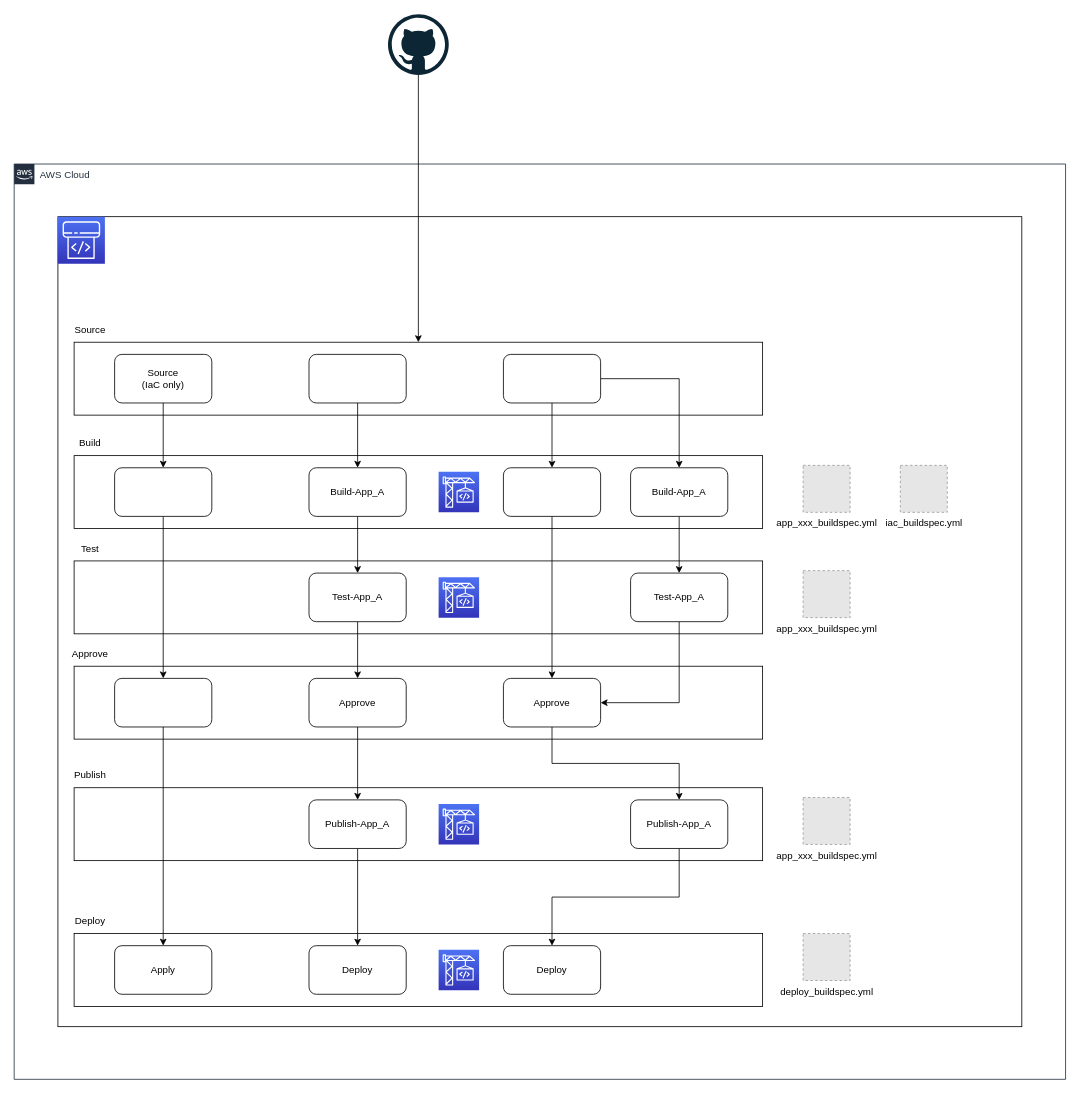
This 1080x1094 diagram has some shape labels left out. Grey dashed boxes stand in for pictures. Here are the shapes that lost their labels. From the top down, the centre of each, then its label:
At point 81,240: "Pipeline".
At point 357,378: "Source (app only)".
At point 552,378: "Source (IaC & app)".
At point 163,491: "Plan_IaC".
At point 552,491: "Build-Plan_IaC".
At point 163,702: "Approve_IaC".
